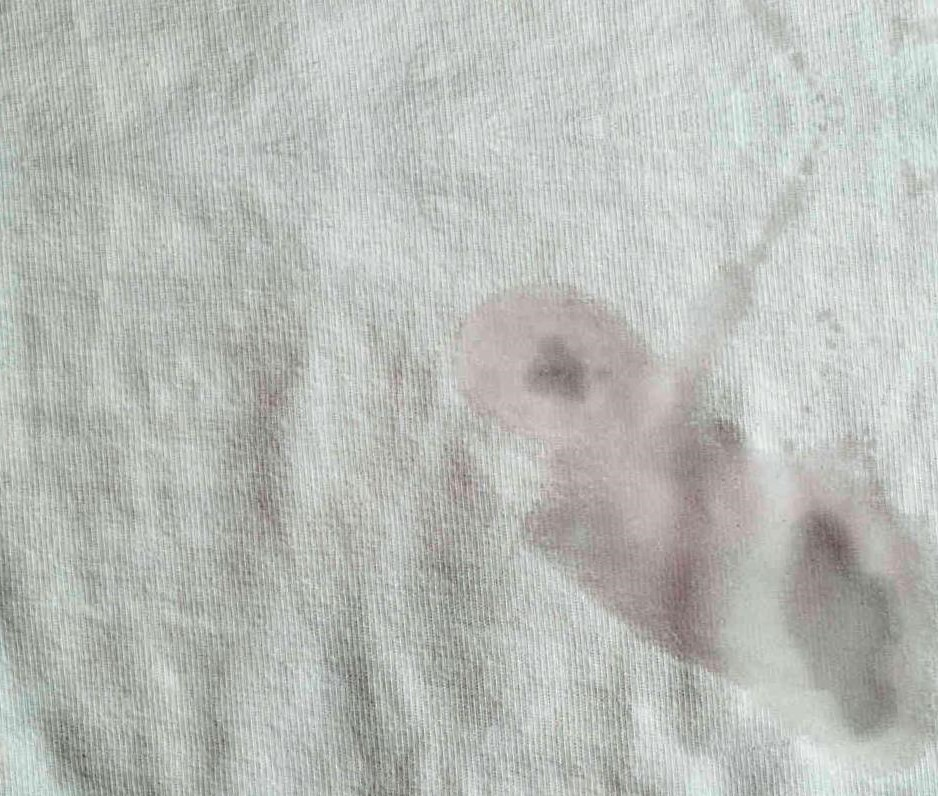stain: (436, 277, 938, 790)
